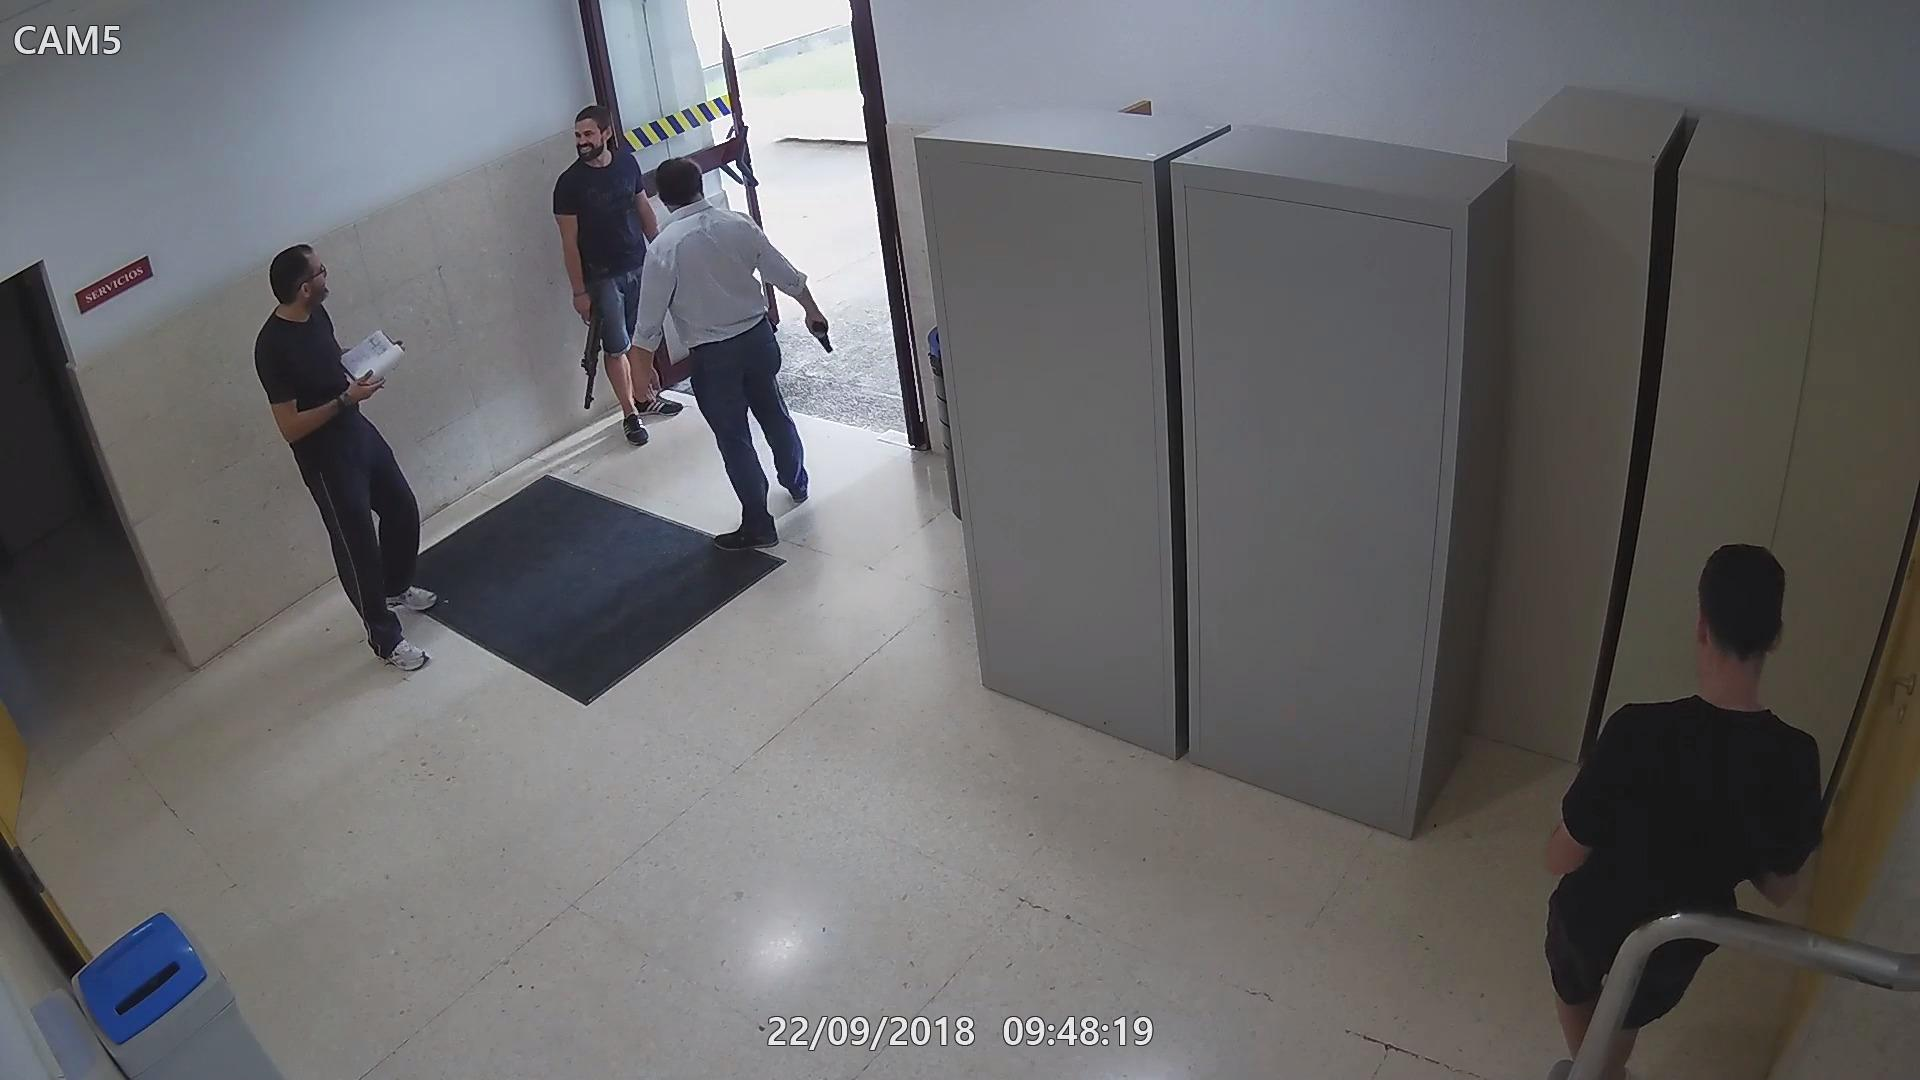Handgun: (802, 310, 835, 356)
